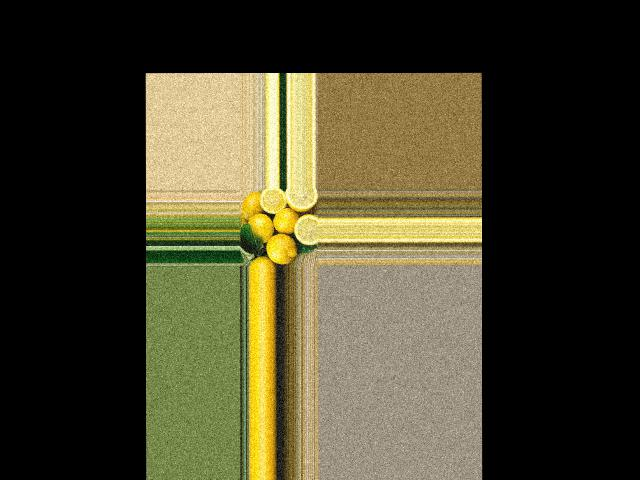lemon: (240, 191, 263, 221)
